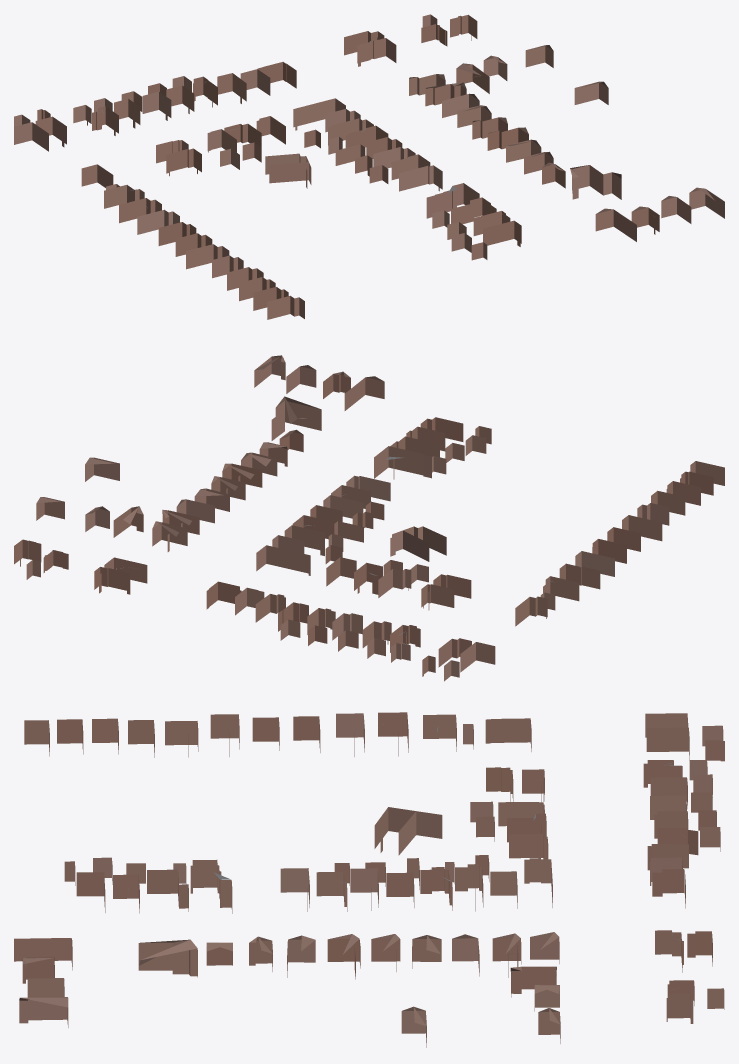
File: c_1641_17823_buildings_residential.glb
3 views of the same model, one above another, from view 1: azimuth 30°, elevation 25°; view 2: azimuth 150°, elevation 25°; view 3: azimuth 270°, elevation 25° (orthographic). The views are drawn at different scales.
Visible parts, largest first — view 1: geometry_0; view 2: geometry_0; view 3: geometry_0.
Part boxes in pixels (x1,y1,x2,y2): geometry_0: [14, 14, 724, 319]; geometry_0: [14, 355, 724, 681]; geometry_0: [14, 712, 724, 1047].
Size of the model in its own units: 266 by 13.24 by 255.
